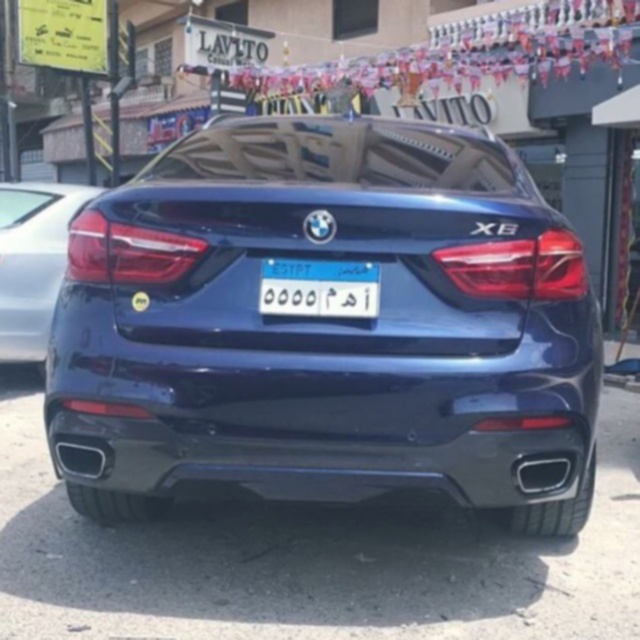License Plate: (252, 250, 385, 323)
